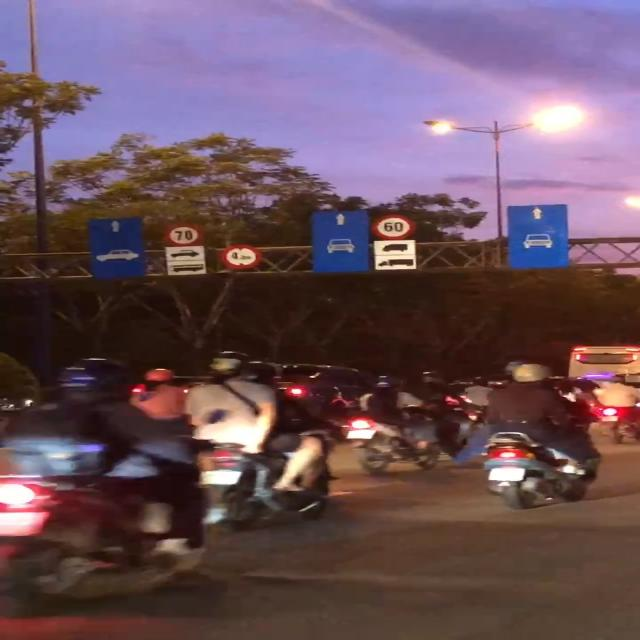Bien bao han che chieu cao: (219, 245, 262, 272)
Bien bao toc do toi da cho phep: (366, 213, 415, 240), (160, 224, 203, 247)
